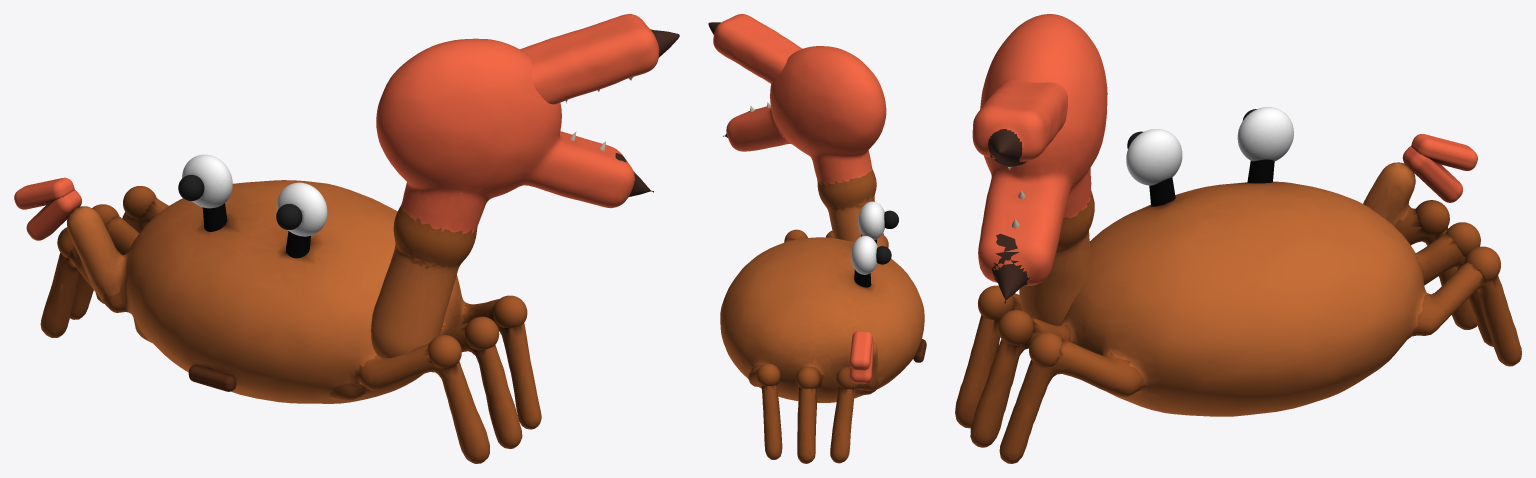
Rendered from vad-ar-klockan.glb.
3 renders of one model, left to right at view 1: azimuth 30°, elevation 25°; view 2: azimuth 150°, elevation 25°; view 3: azimuth 270°, elevation 25°, orthographic. The views are drawn at different scales.
Visible parts, largest first — view 1: caranguejo__r0, garra__r0, pinca__r0, caranguejo__r7, caranguejo__r10, caranguejo__r12, caranguejo__r13, caranguejo__r3, caranguejo__r2, caranguejo__r4, caranguejo__r5, caranguejo__r14; view 2: caranguejo__r0, garra__r0, pinca__r0, caranguejo__r7, caranguejo__r10, caranguejo__r13, caranguejo__r14, caranguejo__r15, caranguejo__r12, caranguejo__r1, caranguejo__r8, caranguejo__r11; view 3: caranguejo__r0, garra__r0, pinca__r0, caranguejo__r10, caranguejo__r7, caranguejo__r12, caranguejo__r13, caranguejo__r3, caranguejo__r2, caranguejo__r1, caranguejo__r4, caranguejo__r14 (+3 smaller).
Boxes of the visible parts, box(x1,y1,x2,y2) form: caranguejo__r0: box(40, 180, 541, 463); garra__r0: box(371, 38, 653, 358); pinca__r0: box(520, 14, 679, 104); caranguejo__r7: box(182, 154, 232, 208); caranguejo__r10: box(276, 182, 327, 236); caranguejo__r12: box(26, 189, 81, 240); caranguejo__r13: box(14, 177, 74, 209); caranguejo__r3: box(464, 316, 499, 350); caranguejo__r2: box(492, 295, 527, 327); caranguejo__r4: box(428, 335, 461, 368); caranguejo__r5: box(188, 364, 236, 391); caranguejo__r14: box(123, 186, 156, 219); caranguejo__r0: box(720, 237, 924, 463); garra__r0: box(723, 46, 886, 246); pinca__r0: box(708, 14, 802, 83); caranguejo__r7: box(851, 236, 877, 274); caranguejo__r10: box(858, 201, 884, 239); caranguejo__r13: box(849, 330, 872, 370); caranguejo__r14: box(756, 363, 780, 386); caranguejo__r15: box(796, 366, 820, 388); caranguejo__r12: box(850, 339, 873, 383); caranguejo__r1: box(836, 366, 859, 389); caranguejo__r8: box(876, 246, 891, 264); caranguejo__r11: box(884, 210, 898, 228); caranguejo__r0: box(955, 162, 1521, 463); garra__r0: box(978, 14, 1107, 325); pinca__r0: box(972, 79, 1067, 169); caranguejo__r10: box(1126, 129, 1182, 185); caranguejo__r7: box(1237, 107, 1293, 161); caranguejo__r12: box(1402, 146, 1462, 202); caranguejo__r13: box(1411, 134, 1477, 170); caranguejo__r3: box(998, 310, 1033, 345); caranguejo__r2: box(1029, 332, 1062, 367); caranguejo__r1: box(1416, 200, 1449, 235); caranguejo__r4: box(978, 285, 1014, 320); caranguejo__r14: box(1464, 246, 1500, 282).
Size of the model in its own units: 1.34 by 1.11 by 1.38.
